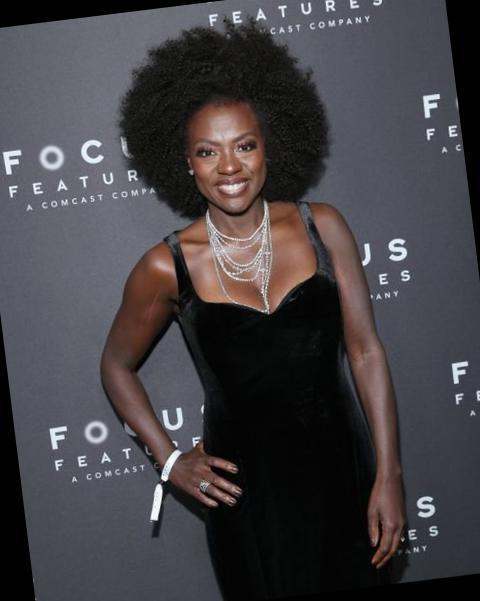Sober: (188, 104, 267, 208)
